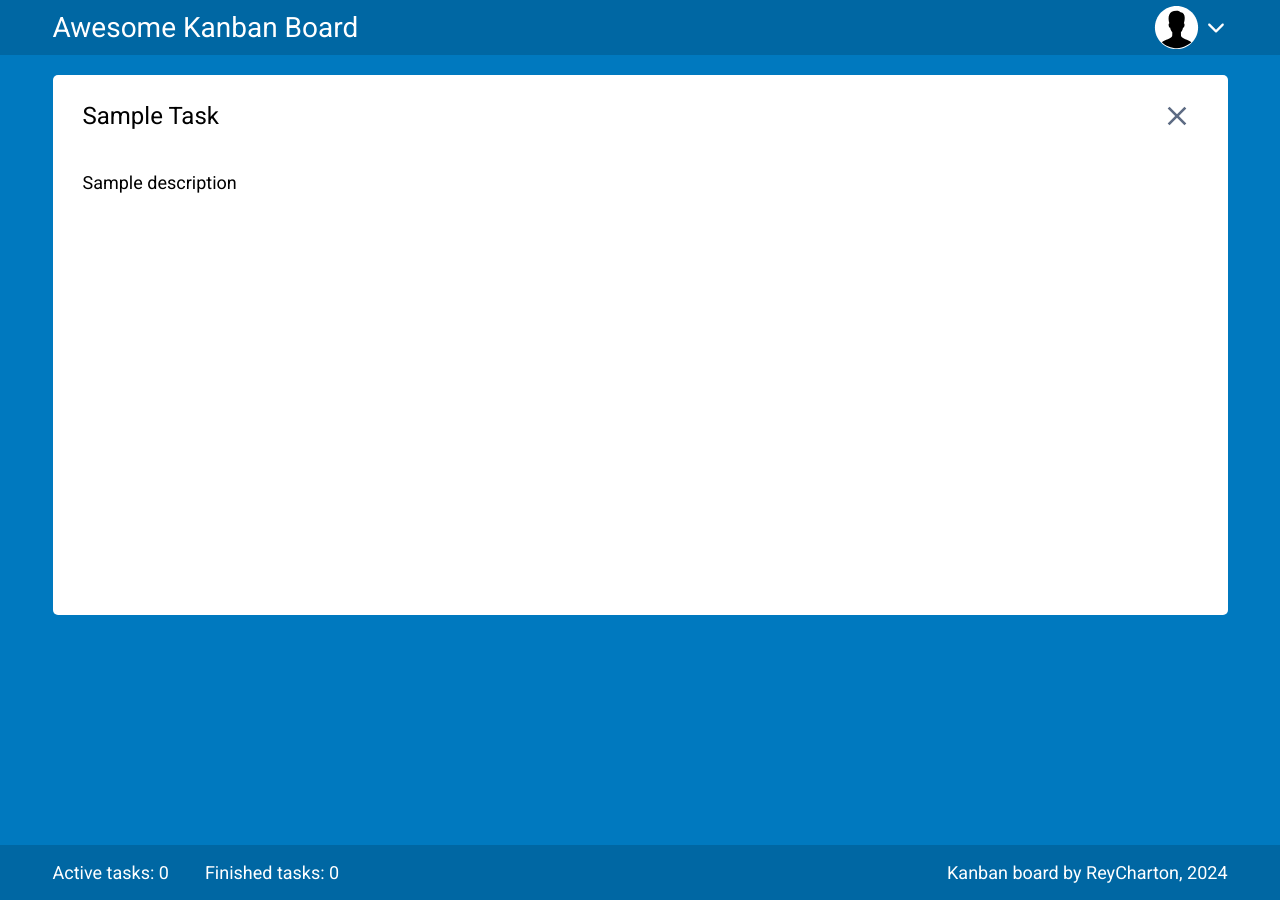
Test: TaskDetails › should enter editing mode when the description is clicked
Click the text "Sample description" at {"x": 160, "y": 182}, box [82,172,237,193]
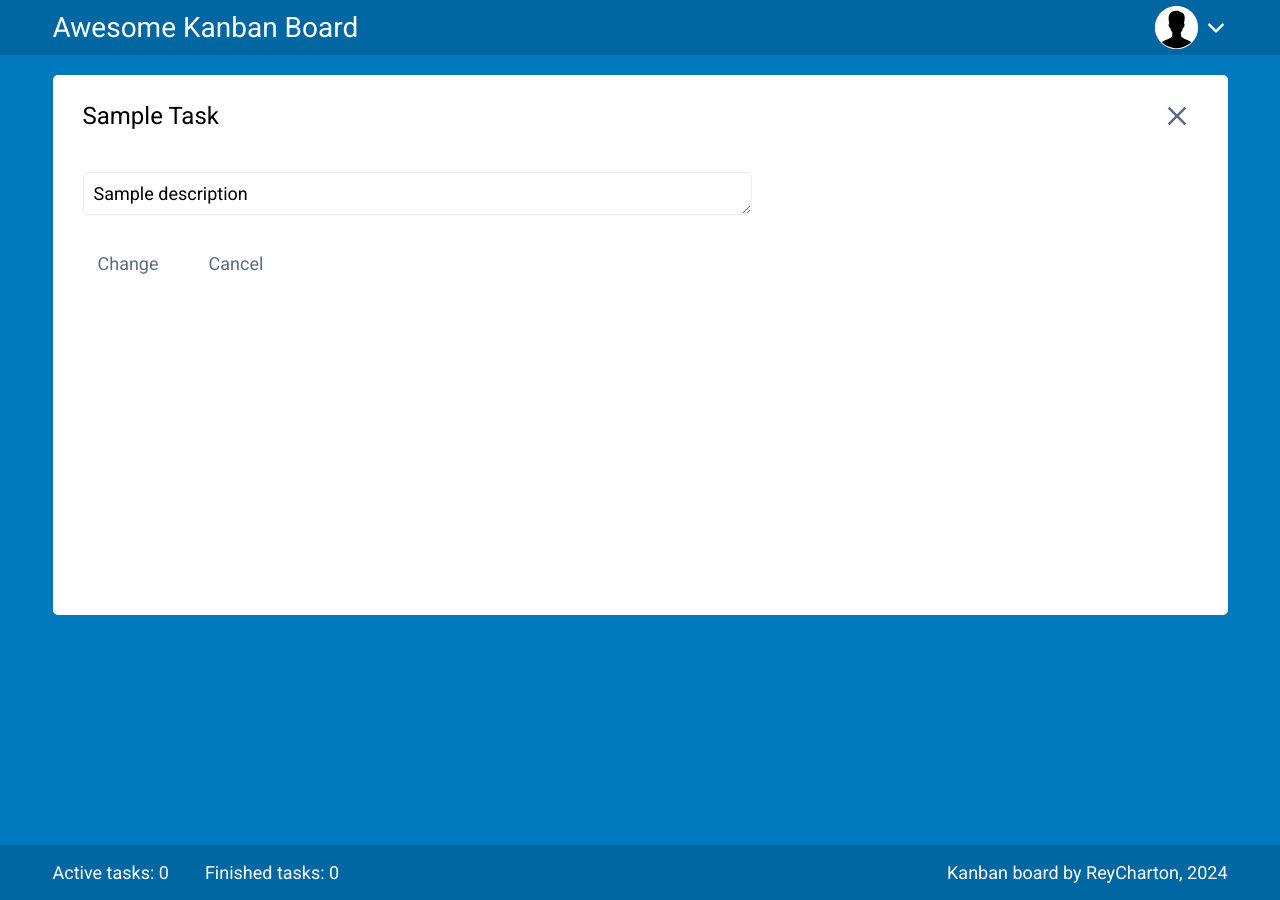
Expected: the text box showing "Sample description" is shown, [82,172,752,215]
Expected: the button "Change" is shown, [82,245,174,282]
